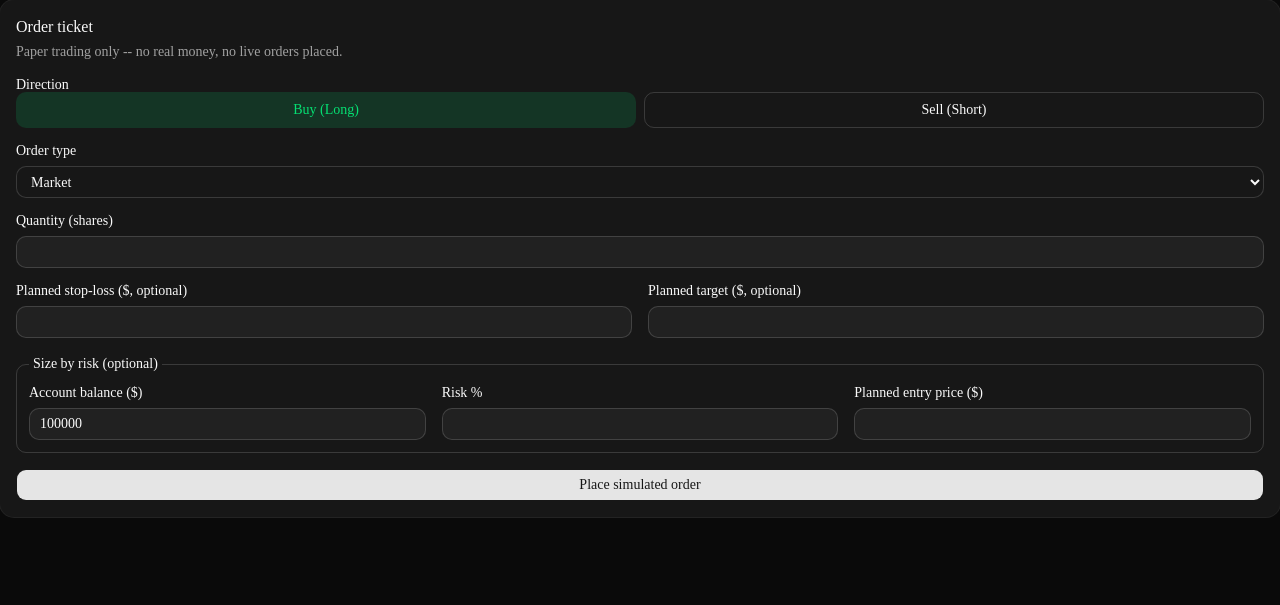
OrderTicket -- conditional price fields › shows only the limit price for a limit order, and only the stop price for a stop order
Select "Limit" in the dropdown labelled "Order type" at (640,182), box [16, 166, 1264, 198]
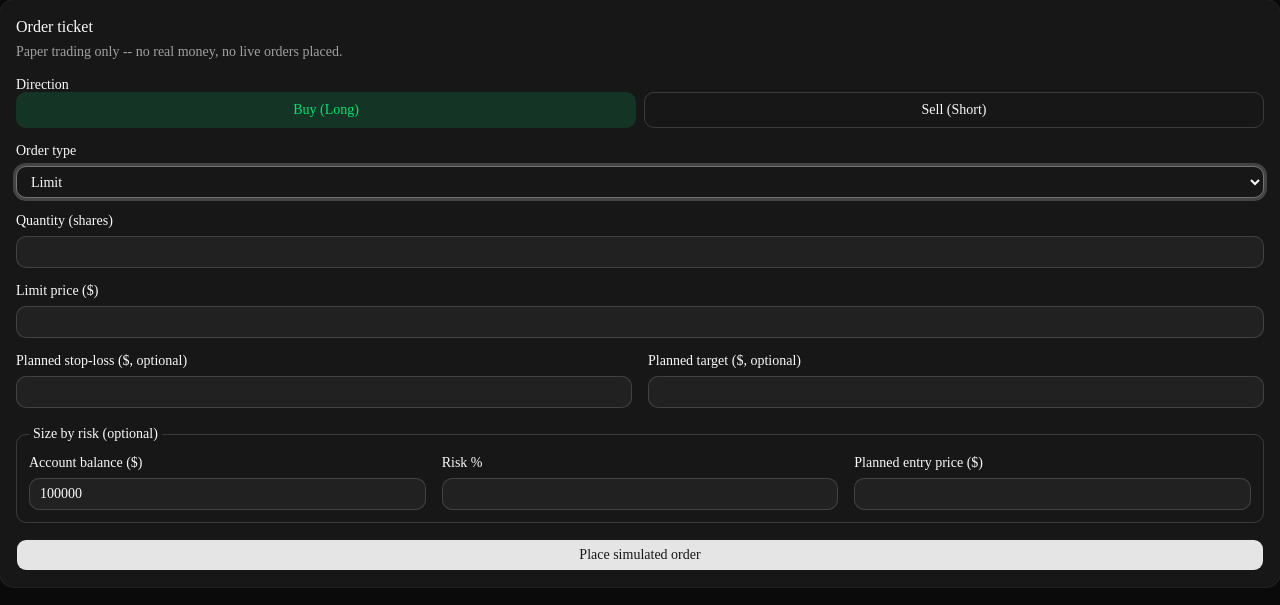
Expected: the field labelled "stop price" is not shown
Now the field labelled "Limit price ($)" is shown, box [16, 306, 1264, 338]
Select "Stop" in the dropdown labelled "Order type" at (640,182), box [16, 166, 1264, 198]
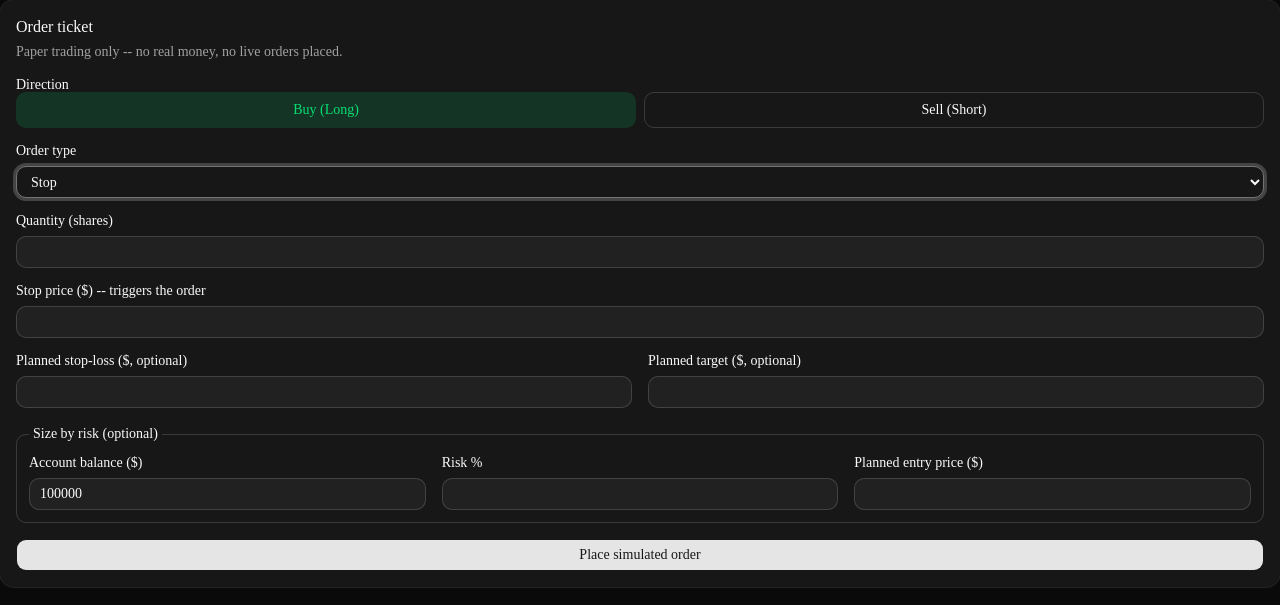
Expected: the field labelled "Stop price ($) -- triggers the order" is shown, [16, 306, 1264, 338]
Now the label labelled "Limit price" is gone
Select "Market" in the dropdown labelled "Order type" at (640,182), box [16, 166, 1264, 198]
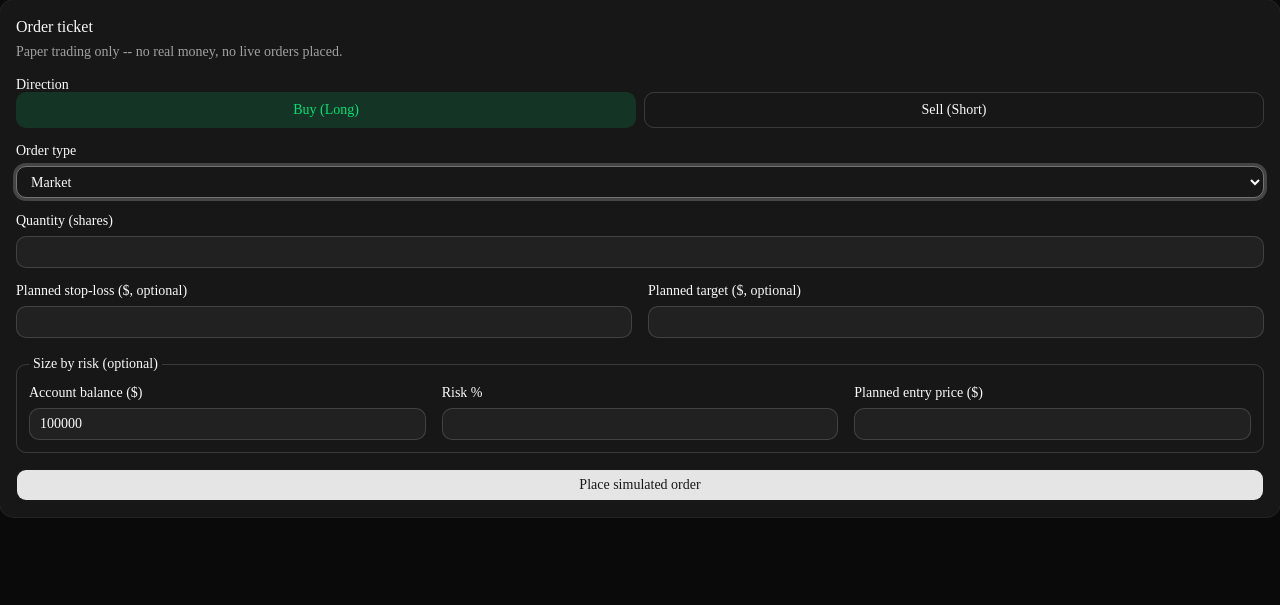
Expected: the label labelled "Limit price" is not shown
Now the label labelled "Stop price" is gone
